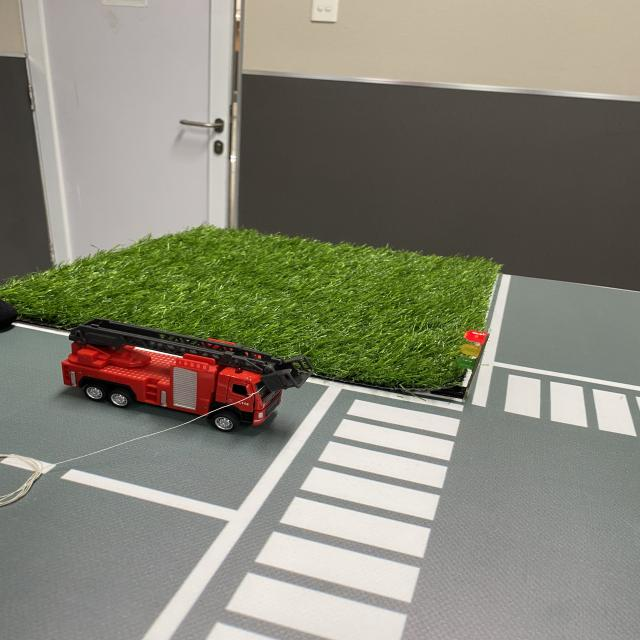Fire Truck: (56, 311, 319, 437)
